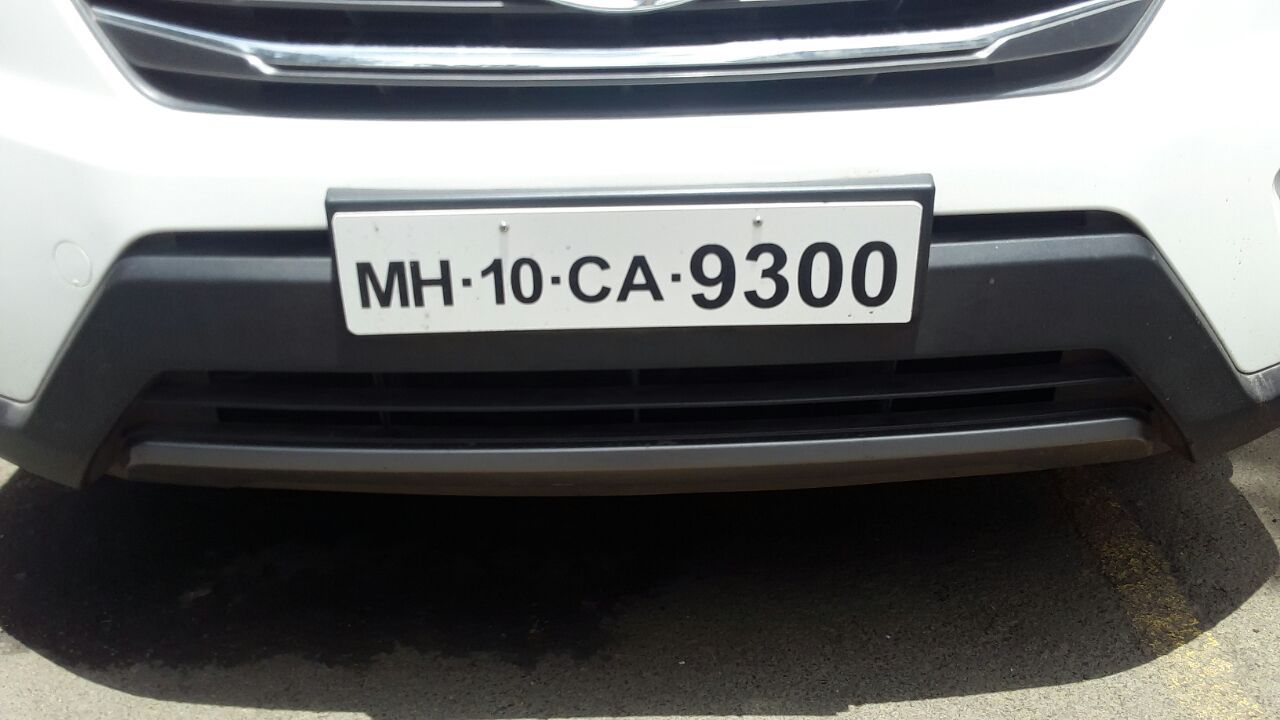licenseplate: (323, 190, 931, 344)
